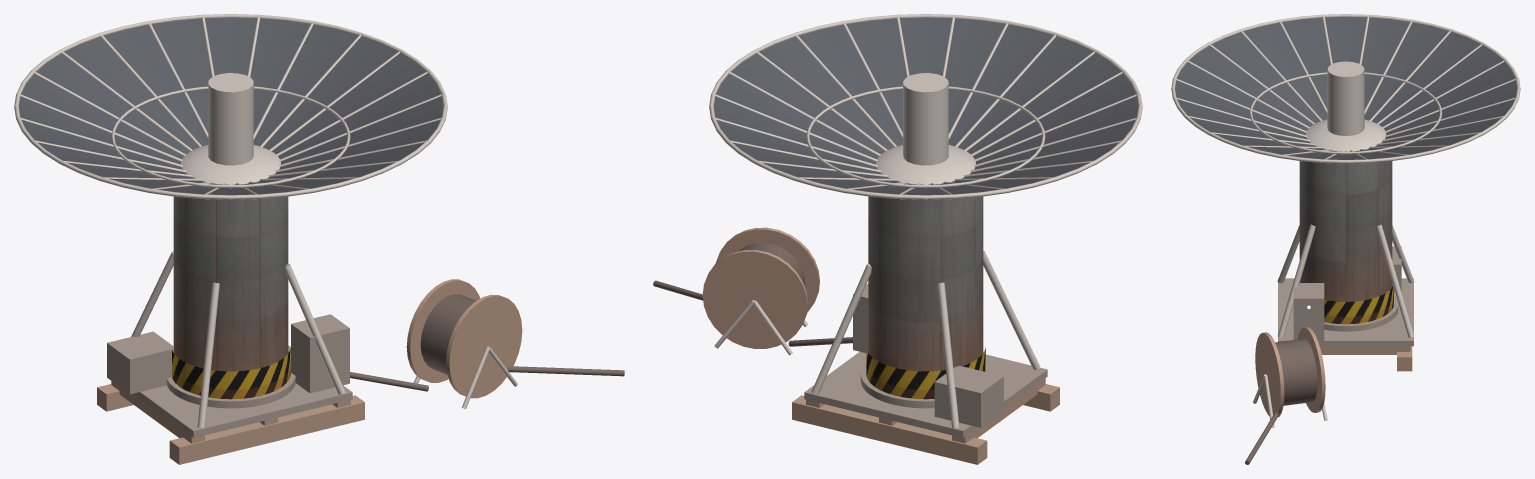
The model's file is E04_fission_reactor_small.glb.
The picture shows the model from 3 angles, left to right: view 1: azimuth 30°, elevation 25°; view 2: azimuth 150°, elevation 25°; view 3: azimuth 270°, elevation 25°; orthographic projection. The views are drawn at different scales.
Parts seen in each view (by area): view 1: radiator_cone, reactor_vessel, reel_flange (×2), skid (×2), radiator_rim, deck, heat_pipe_trunk, control_cabinet, converter_unit, warning_band, support_strut (×3), vessel_head (+5 smaller); view 2: radiator_cone, reactor_vessel, reel_flange (×2), deck, skid (×2), radiator_rim, heat_pipe_trunk, support_strut (×3), converter_unit, vessel_head, warning_band, radiator_ring (+5 smaller); view 3: radiator_cone, reactor_vessel, radiator_rim, deck, heat_pipe_trunk, reel_flange (×2), cable_winding, support_strut (×3), control_cabinet, warning_band, vessel_head, radiator_ring (+3 smaller).
Part boxes in pixels (x1=…): radiator_cone: x1=19, y1=18, x2=443, y2=195; reactor_vessel: x1=173, y1=196, x2=288, y2=371; reel_flange (×2): x1=406, y1=279, x2=522, y2=398; skid (×2): x1=97, y1=384, x2=364, y2=464; radiator_rim: x1=14, y1=14, x2=447, y2=199; deck: x1=133, y1=345, x2=352, y2=437; heat_pipe_trunk: x1=208, y1=73, x2=253, y2=165; control_cabinet: x1=291, y1=314, x2=349, y2=393; converter_unit: x1=107, y1=331, x2=173, y2=394; warning_band: x1=172, y1=348, x2=290, y2=399; support_strut (×3): x1=131, y1=251, x2=345, y2=428; vessel_head: x1=181, y1=145, x2=280, y2=184; radiator_cone: x1=713, y1=18, x2=1137, y2=195; reactor_vessel: x1=868, y1=196, x2=983, y2=371; reel_flange (×2): x1=702, y1=227, x2=819, y2=348; deck: x1=804, y1=352, x2=1047, y2=437; skid (×2): x1=792, y1=384, x2=1059, y2=464; radiator_rim: x1=709, y1=14, x2=1142, y2=199; heat_pipe_trunk: x1=903, y1=73, x2=948, y2=165; support_strut (×3): x1=811, y1=251, x2=1040, y2=428; converter_unit: x1=934, y1=365, x2=1003, y2=427; vessel_head: x1=876, y1=145, x2=975, y2=184; warning_band: x1=866, y1=347, x2=985, y2=399; radiator_ring: x1=806, y1=86, x2=1045, y2=188; radiator_cone: x1=1175, y1=17, x2=1516, y2=159; reactor_vessel: x1=1299, y1=161, x2=1392, y2=301; radiator_rim: x1=1171, y1=14, x2=1520, y2=163; deck: x1=1278, y1=278, x2=1413, y2=346; heat_pipe_trunk: x1=1327, y1=61, x2=1364, y2=135; reel_flange (×2): x1=1255, y1=327, x2=1325, y2=417; cable_winding: x1=1275, y1=338, x2=1317, y2=405; support_strut (×3): x1=1277, y1=224, x2=1414, y2=337; control_cabinet: x1=1293, y1=283, x2=1324, y2=343; warning_band: x1=1324, y1=286, x2=1393, y2=324; vessel_head: x1=1305, y1=119, x2=1386, y2=151; radiator_ring: x1=1249, y1=72, x2=1442, y2=154.
Bounding box in the file's own units: 7.84 × 4.75 × 5.66.
Materials: 9 (2 with a texture image).
